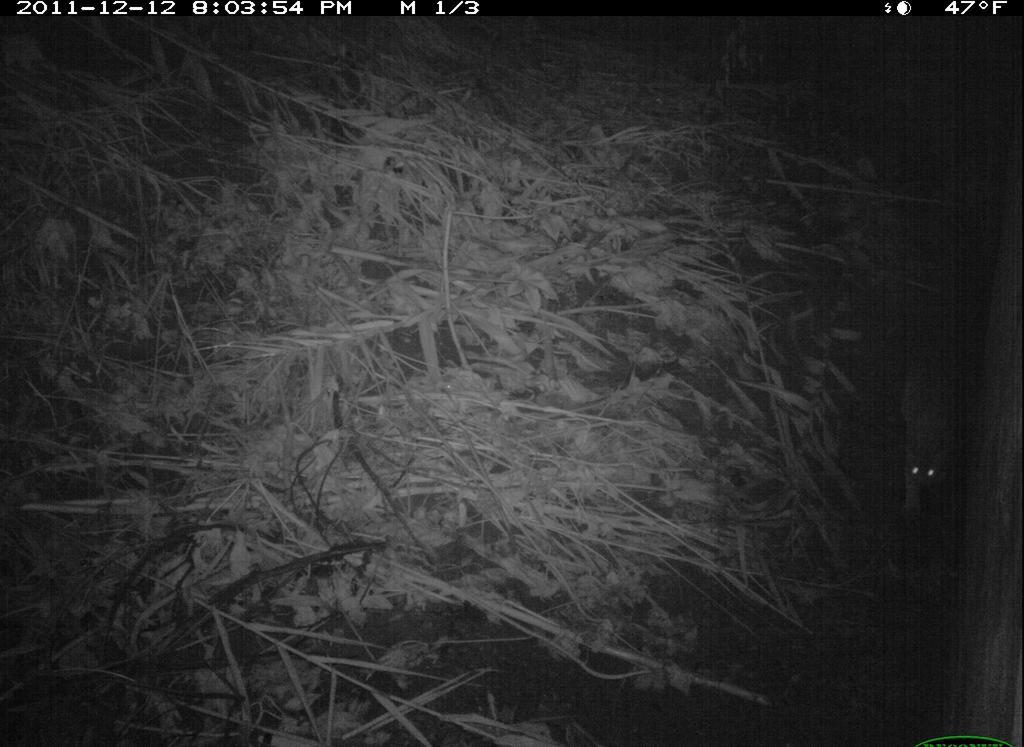bobcat: (890, 309, 971, 532)
